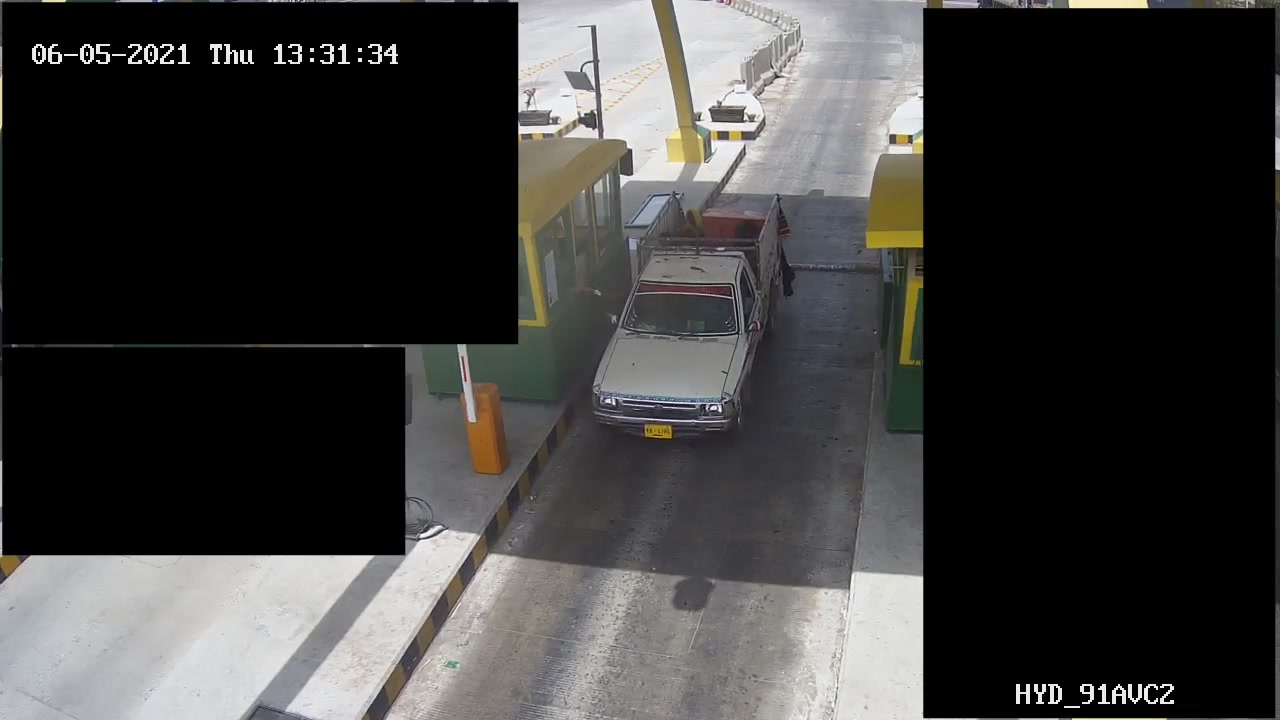F1: (589, 185, 792, 442)
